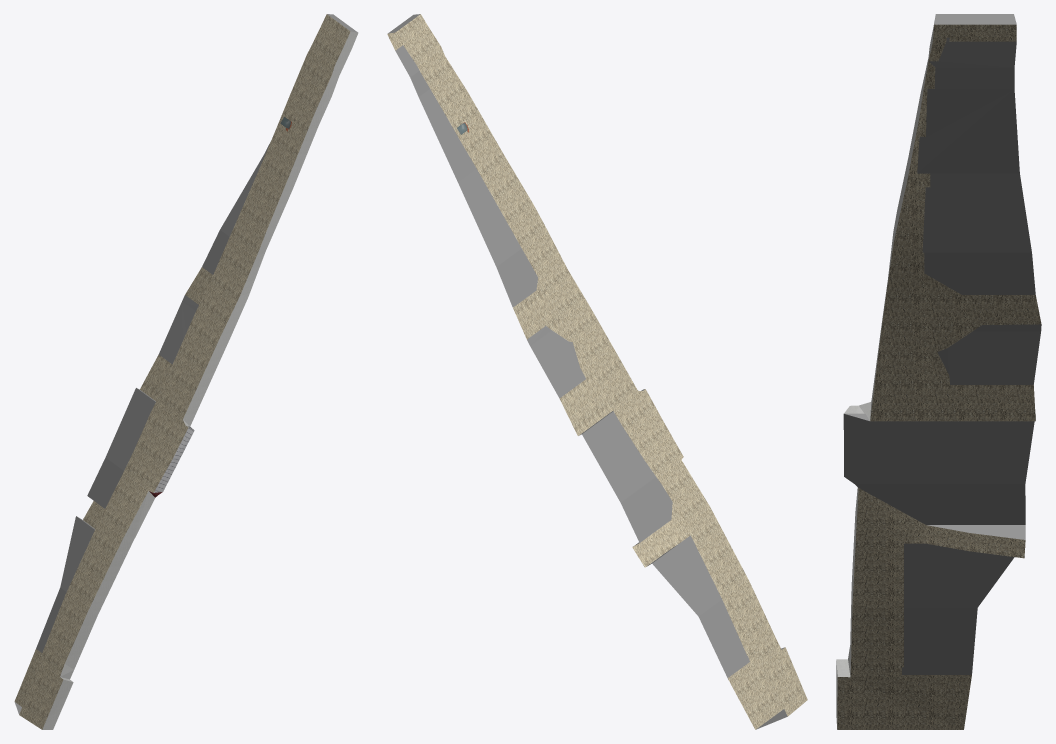
File: Pikk_jalg_myyr_1-origo.obj
3 views of the same model, side by side, from view 1: azimuth 30°, elevation 25°; view 2: azimuth 150°, elevation 25°; view 3: azimuth 270°, elevation 25° (orthographic). The views are drawn at different scales.
Visible parts, largest first — view 1: Pikk_jalg_myyr_1; view 2: Pikk_jalg_myyr_1; view 3: Pikk_jalg_myyr_1.
Part boxes in pixels (x1,y1,x2,y2): Pikk_jalg_myyr_1: [14, 14, 358, 729]; Pikk_jalg_myyr_1: [387, 14, 807, 729]; Pikk_jalg_myyr_1: [836, 14, 1041, 729].
Size of the model in its own units: 64.44 by 106 by 20.06.
